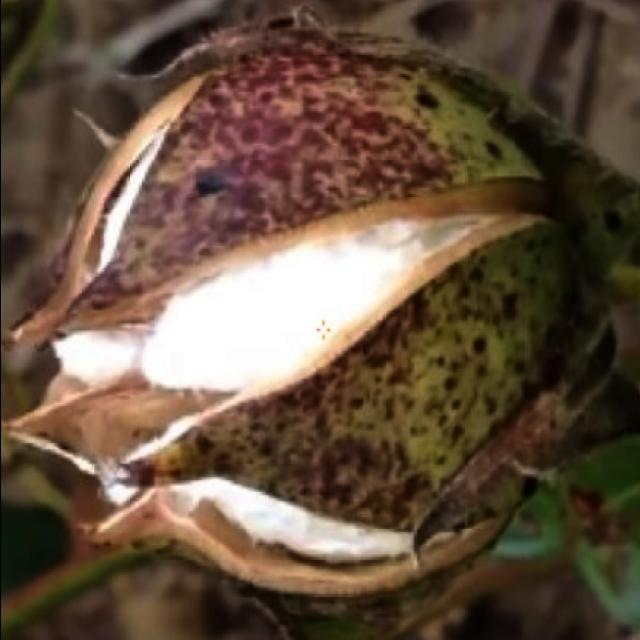Split Cotton Boll: (45, 45, 583, 593)
